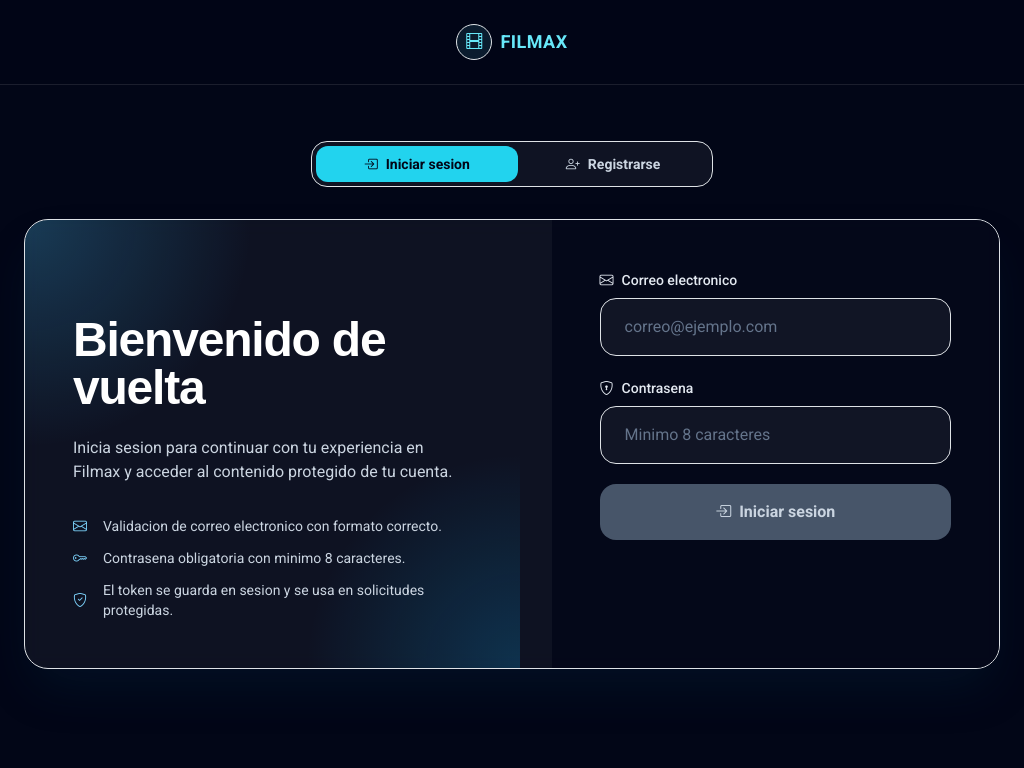
FRQA-01 - Cypress E2E de toda la aplicación › permite registrar un usuario nuevo desde la pantalla de registro
Click the button with test id "auth-register-tab": {"x": 613, "y": 164} top-left (518, 146), bottom-right (708, 182)
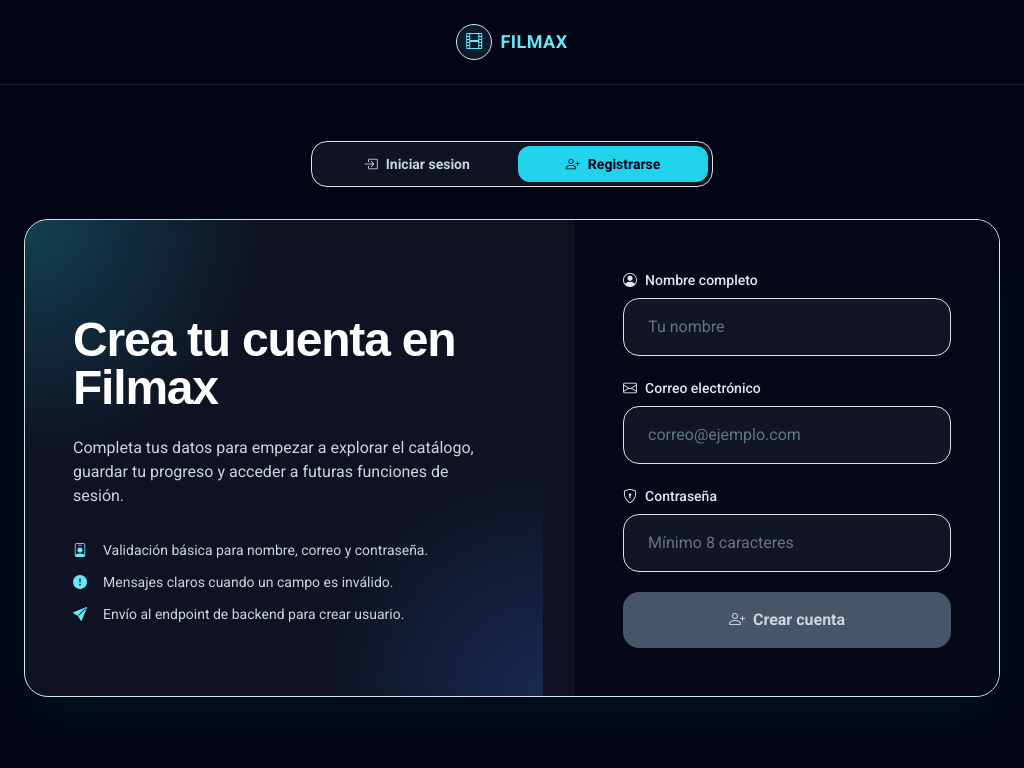
In the field with test id "register-name": {"x": 787, "y": 327} top-left (623, 298), bottom-right (951, 356), type "Usuario Cypress"
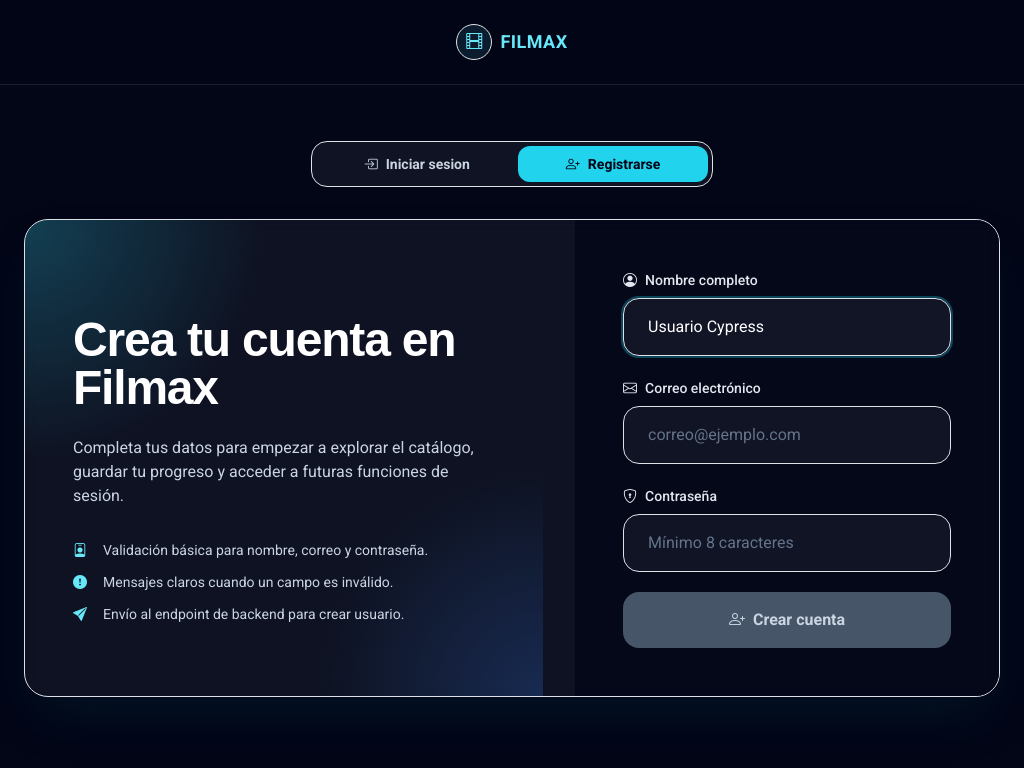
In the field with test id "register-email": {"x": 787, "y": 435} top-left (623, 406), bottom-right (951, 464), type "usuario.cypress@filmax.dev"
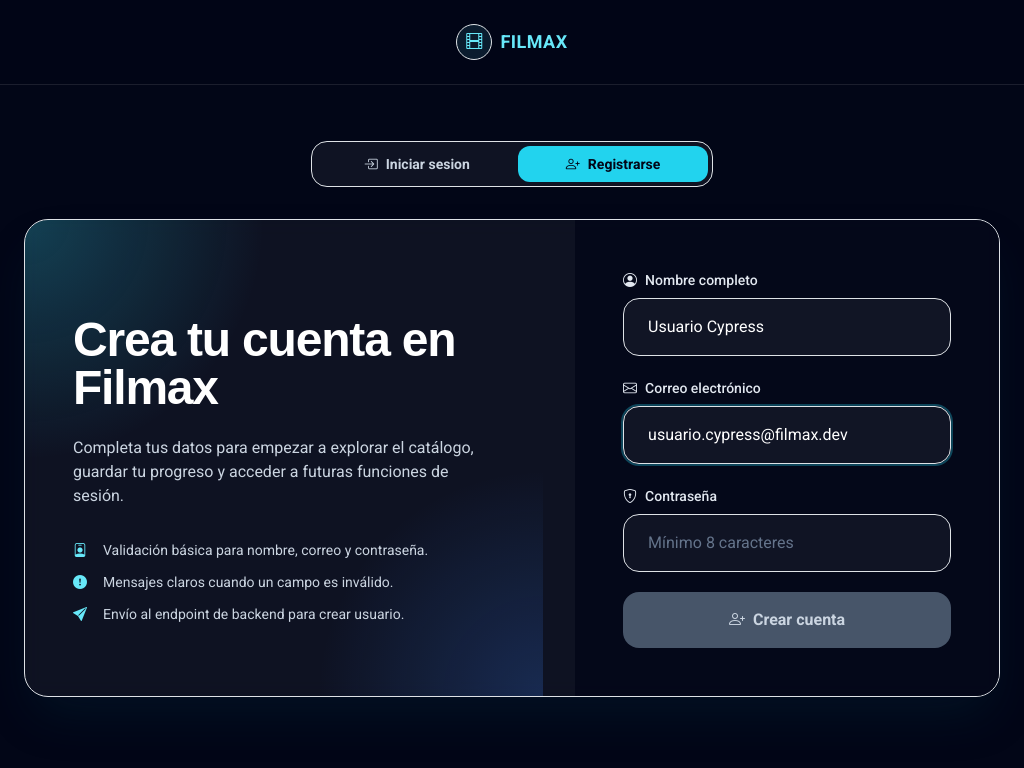
In the password field with test id "register-password": {"x": 787, "y": 543} top-left (623, 514), bottom-right (951, 572), type "Password123"
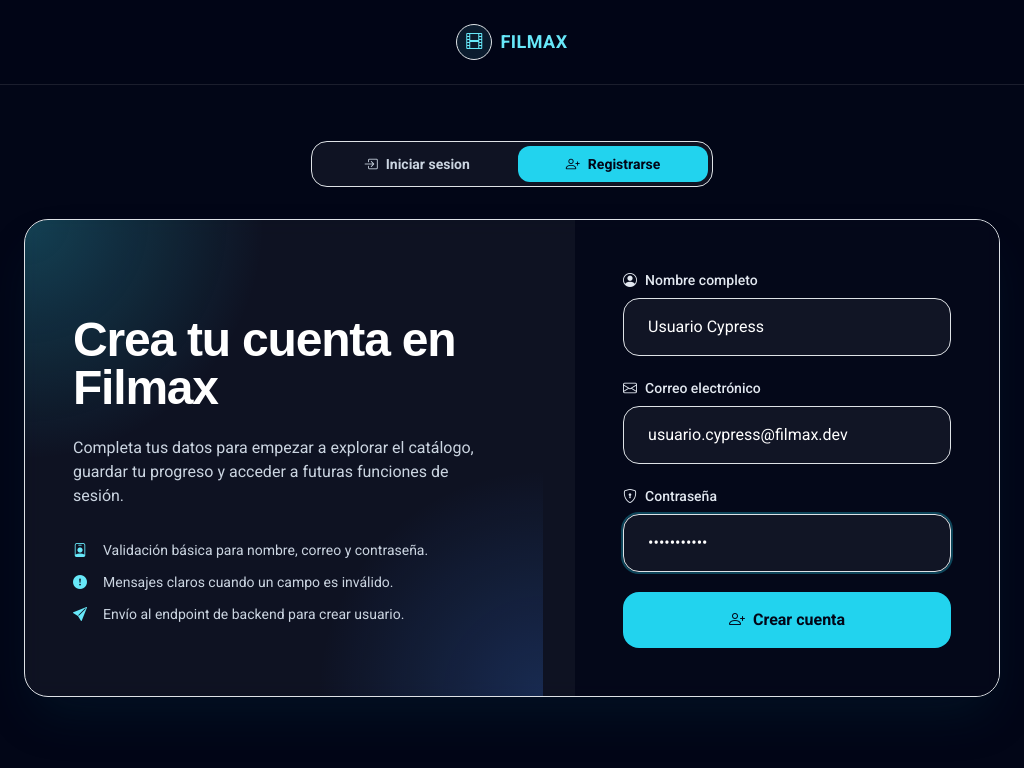
Click the button with test id "register-submit": {"x": 787, "y": 620} top-left (623, 592), bottom-right (951, 648)
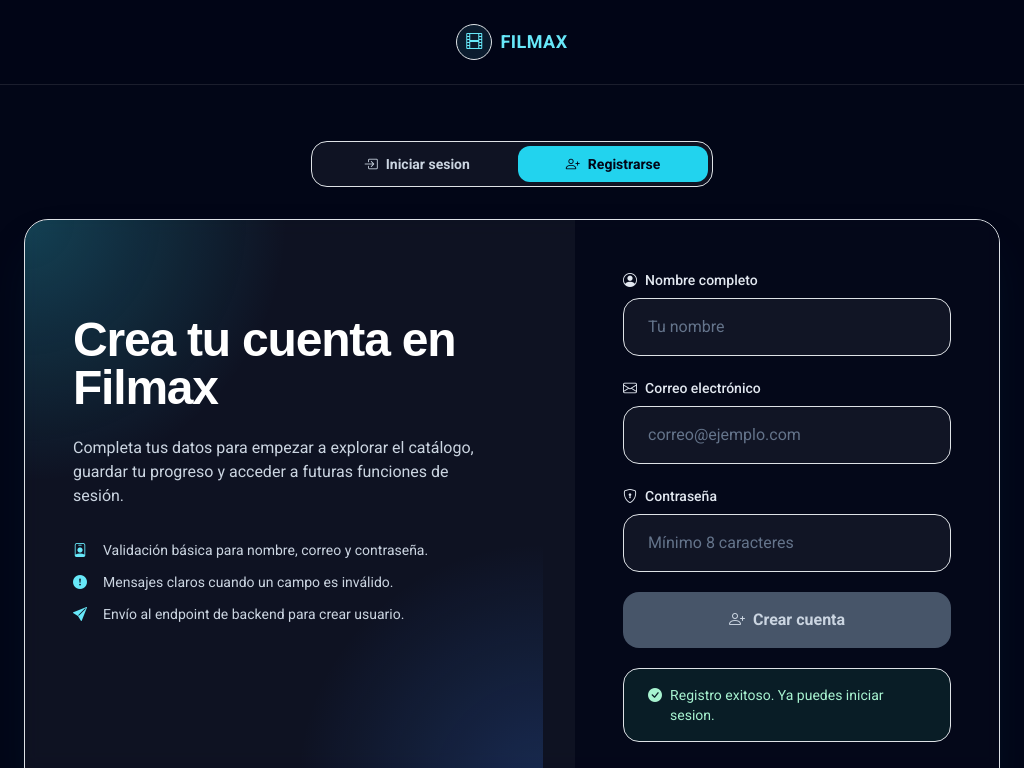
Expected: the text "Registro exitoso. Ya puedes iniciar sesion." is shown, top-left (623, 668), bottom-right (951, 742)
